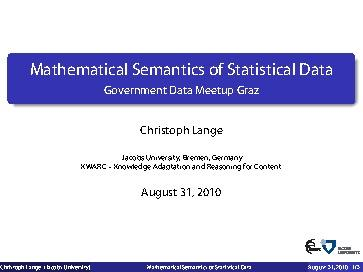subtitle: (64, 120, 288, 206), (1, 254, 363, 272)
title: (26, 57, 340, 101)
